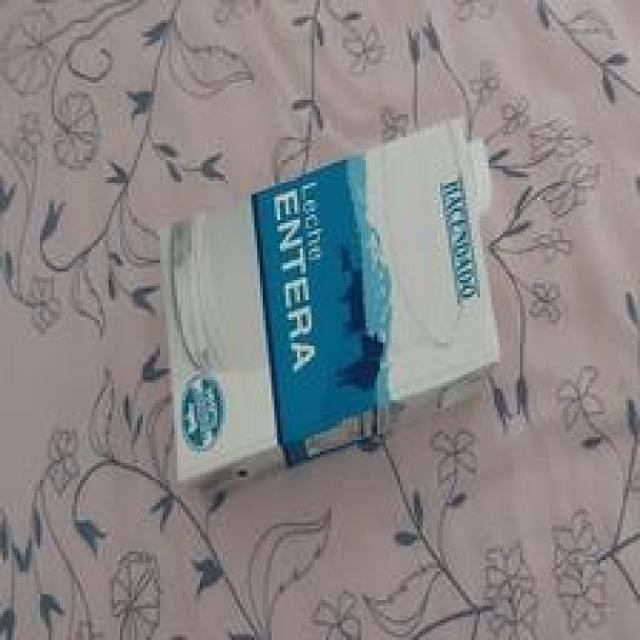Carton: (158, 119, 511, 511)
